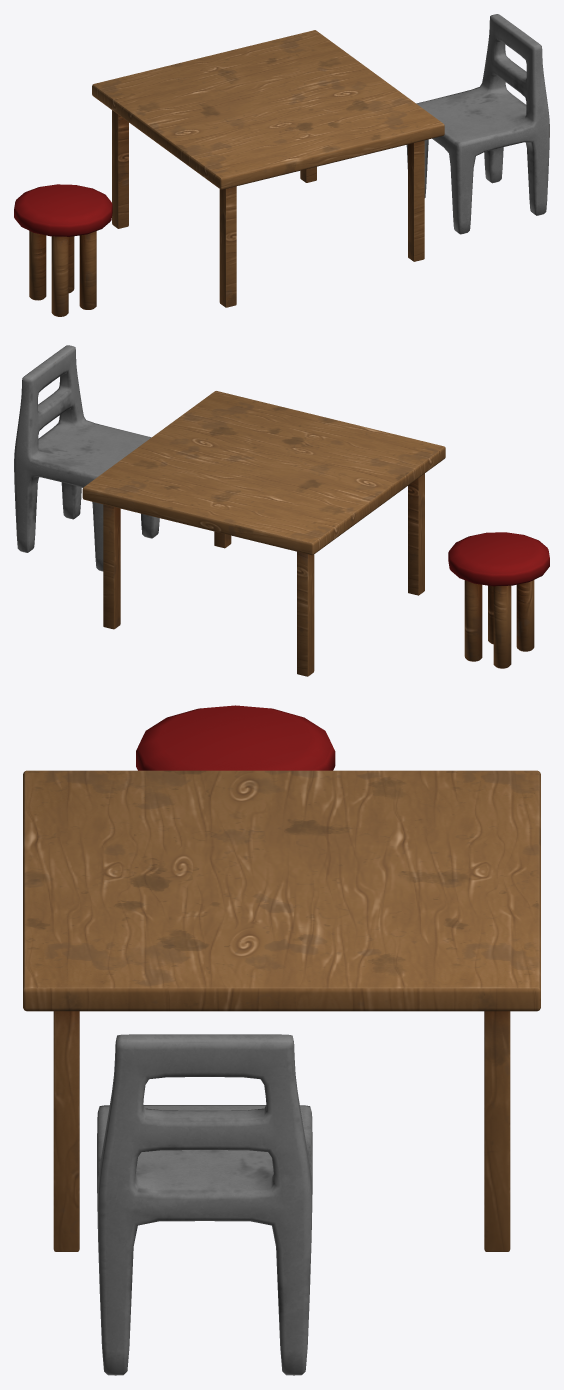
File: Factory_TableChair.fbx
The picture shows the model from 3 angles, top to bottom: view 1: azimuth 30°, elevation 25°; view 2: azimuth 150°, elevation 25°; view 3: azimuth 270°, elevation 25°; orthographic projection. The views are drawn at different scales.
Visible parts, largest first — view 1: Cube.041, Cube.043, Cylinder.005; view 2: Cube.041, Cube.043, Cylinder.005; view 3: Cube.041, Cube.043, Cylinder.005.
Part boxes in pixels (left/top/right/bottom): Cube.041: left=92, top=30, right=444, bottom=307; Cube.043: left=406, top=14, right=549, bottom=234; Cylinder.005: left=14, top=184, right=112, bottom=316; Cube.041: left=82, top=391, right=445, bottom=676; Cube.043: left=14, top=345, right=159, bottom=571; Cylinder.005: left=448, top=532, right=549, bottom=668; Cube.041: left=23, top=770, right=540, bottom=1251; Cube.043: left=97, top=1034, right=312, bottom=1375; Cylinder.005: left=136, top=705, right=335, bottom=770.
Size of the model in its own units: 385 by 127 by 174.
Materials: 1 (1 with a texture image).
